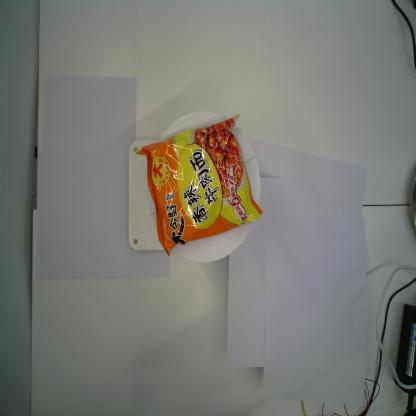Instant Noodles: (136, 112, 264, 258)
